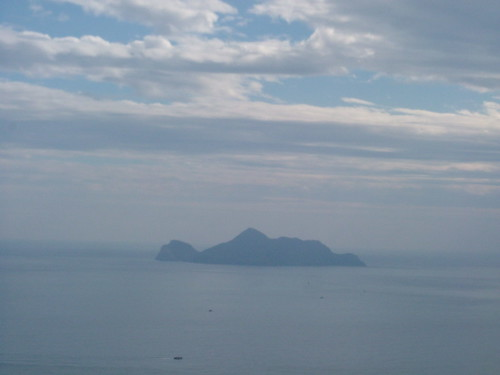turtleIslandLeft: (155, 226, 368, 270)
